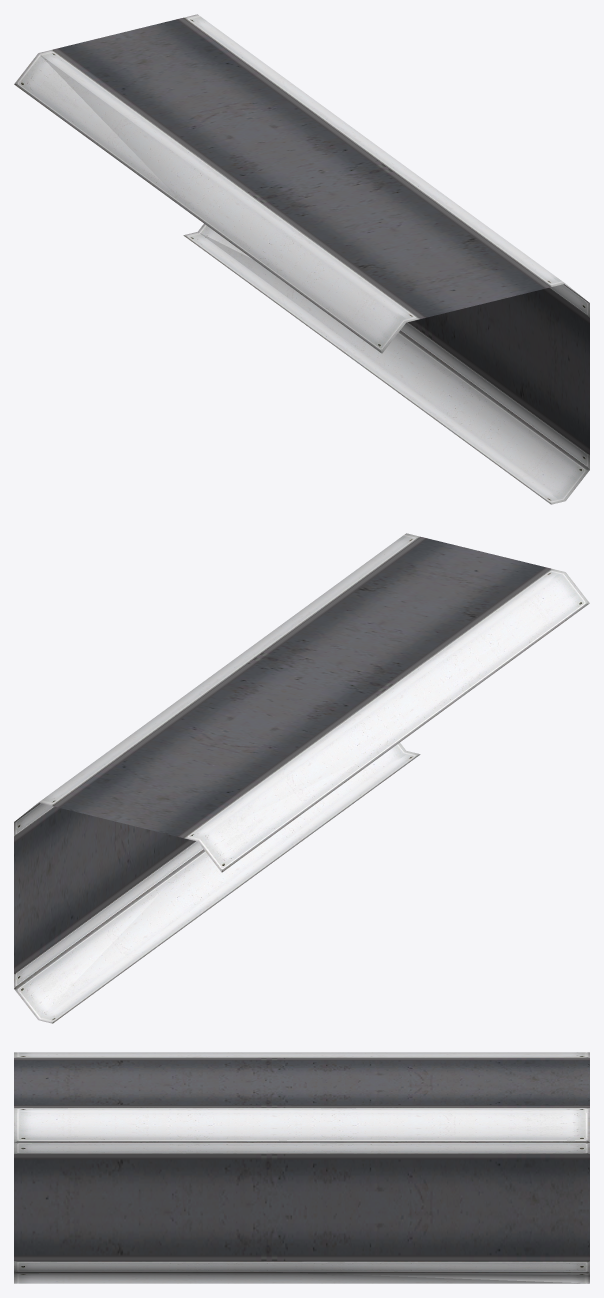
File: GroundTrimCap_1x4.FBX
3 renders of one model, top to bottom at view 1: azimuth 30°, elevation 25°; view 2: azimuth 150°, elevation 25°; view 3: azimuth 270°, elevation 25°, orthographic. The views are drawn at different scales.
Parts seen in each view (by area): view 1: GroundTrimCap_1x4; view 2: GroundTrimCap_1x4; view 3: GroundTrimCap_1x4.
Boxes of the visible parts, x1=… form: GroundTrimCap_1x4: x1=14, y1=14, x2=589, y2=504; GroundTrimCap_1x4: x1=14, y1=533, x2=589, y2=1023; GroundTrimCap_1x4: x1=14, y1=1052, x2=589, y2=1283.
Size of the model in its own units: 1.3 by 1.3 by 4.
